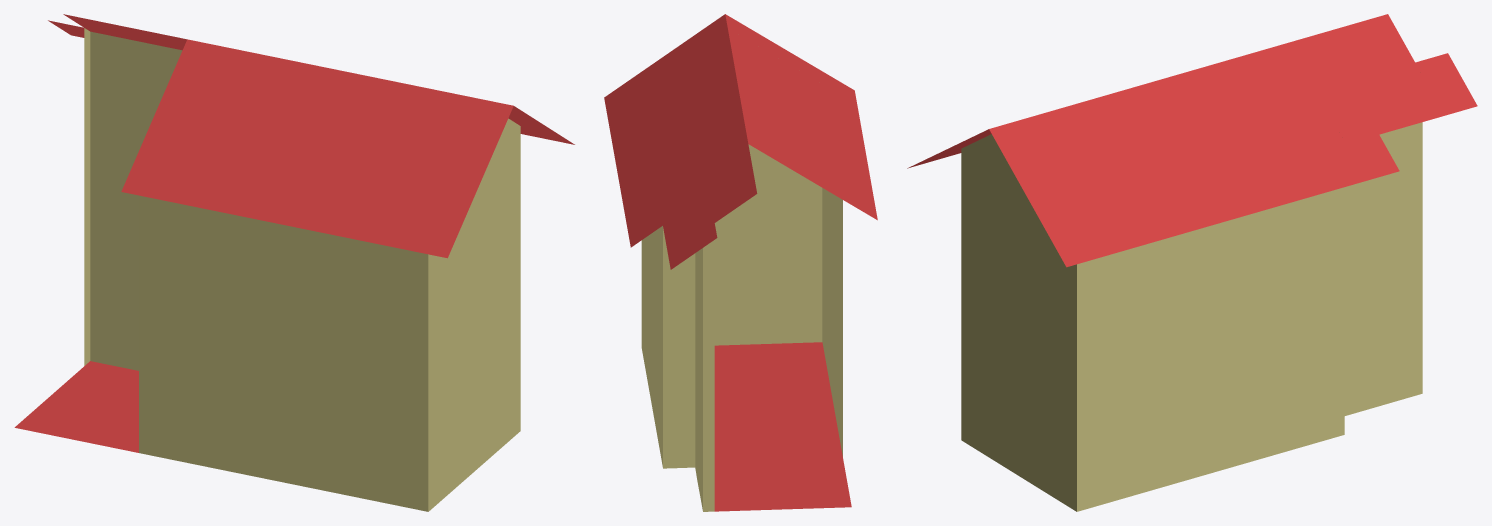
3 views of the same model, side by side, from view 1: azimuth 30°, elevation 25°; view 2: azimuth 150°, elevation 25°; view 3: azimuth 270°, elevation 25° (orthographic). The views are drawn at different scales.
Bounding box in the file's own units: 8.97 × 10.81 × 7.47.
